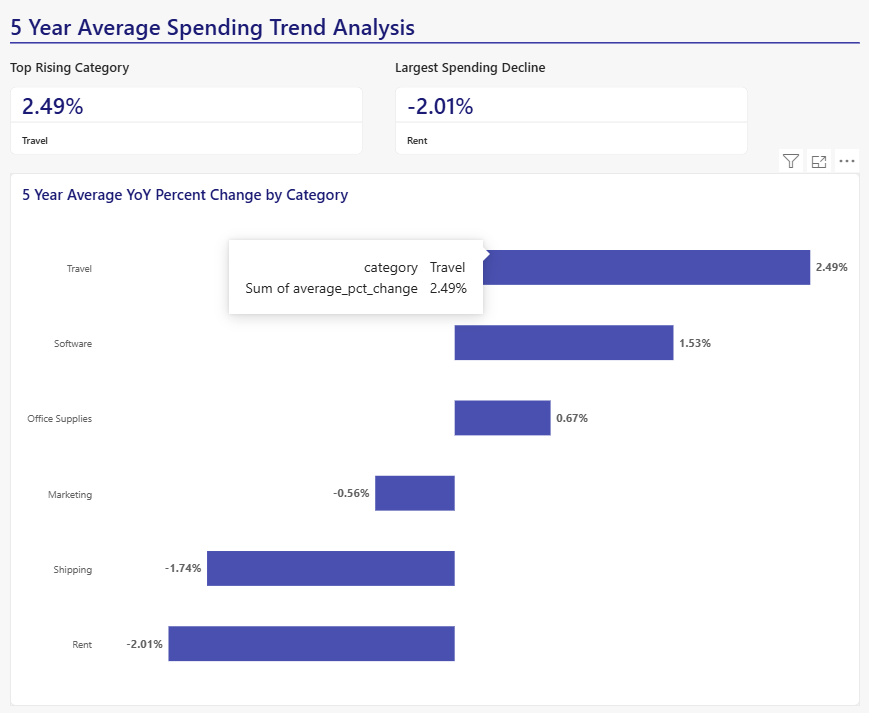

Layout of this report page (visuals, bound fields, positions):
{"tool":"powerbi","page":{"name":"Page 1","canvas":[1920,1080],"ordinal":0},"visuals":[{"type":"clusteredBarChart","title":"5 Year Average YoY Percent Change by Category","fields":{"Category":["v_category_spending_trends.category"],"Y":["Sum(v_category_spending_trends.average_pct_change)"]},"box":[410.6,301,1214.2,761.3],"z":0},{"type":"cardVisual","title":"Top Rising Category","fields":{"Data":["Sum(v_category_spending_trends.average_pct_change)"]},"box":[410.6,137.4,504.1,138.8],"z":1},{"type":"cardVisual","title":"Largest Spending Decline","fields":{"Data":["Sum(v_category_spending_trends.average_pct_change)"]},"box":[960,137.4,504.1,138.8],"z":2},{"type":"textbox","title":"5 Year Average Spending Trend Analysis","box":[410,68.6,986.3,48.1],"z":3},{"type":"shape","box":[410,94.8,1213.9,42.3],"z":4}]}

Visuals, with their boxes on the page's 1920x1080 design canvas (x1, y1, x2, y2). These are canvas units, not pixel positions in the 869x713 screenshot, which may show the page scaled, cropped or inside an application window:
"5 Year Average YoY Percent Change by Category" clusteredBarChart: [left=411, top=301, right=1625, bottom=1062]
"Top Rising Category" cardVisual: [left=411, top=137, right=915, bottom=276]
"Largest Spending Decline" cardVisual: [left=960, top=137, right=1464, bottom=276]
"5 Year Average Spending Trend Analysis" textbox: [left=410, top=69, right=1396, bottom=117]
shape: [left=410, top=95, right=1624, bottom=137]
